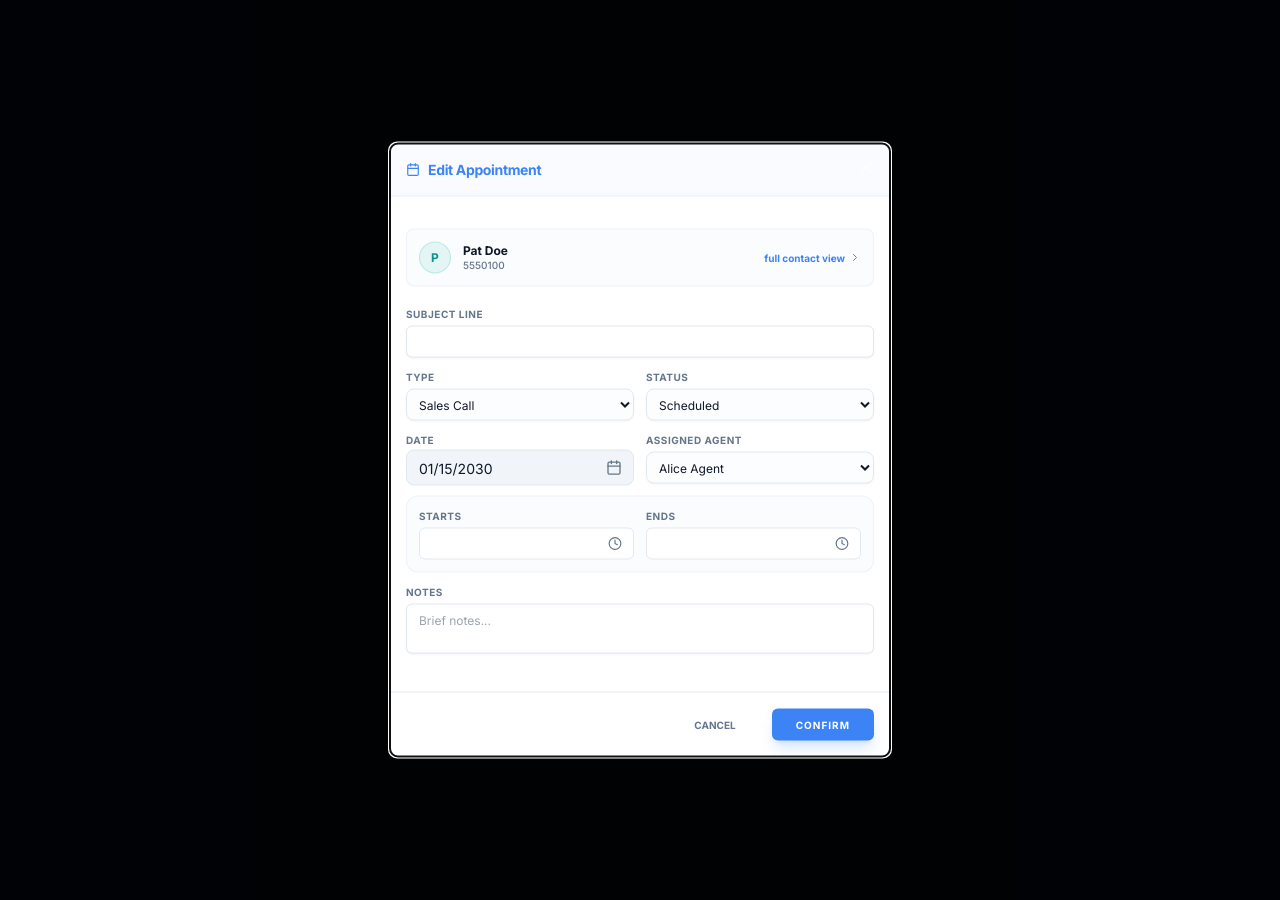
Test: AppointmentModal save outcome (D-16) › disables CONFIRM while the save is in flight and ignores a second click
Step 1. Click the button "CONFIRM" → (823, 724), box [772,708,874,740]
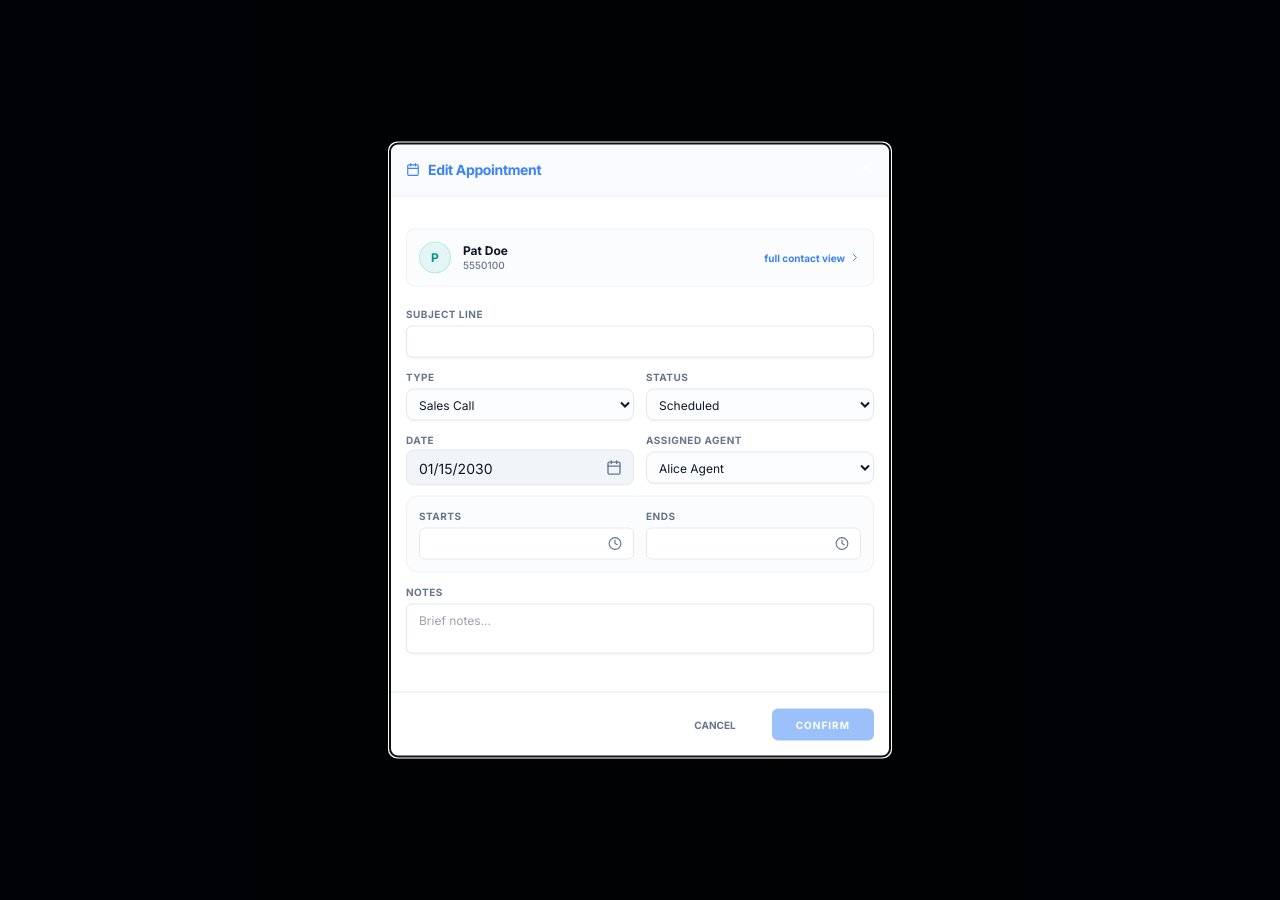
Expected: the button "CONFIRM" is disabled
Step 2. Click the button "CONFIRM" → (823, 724), box [772,708,874,740]
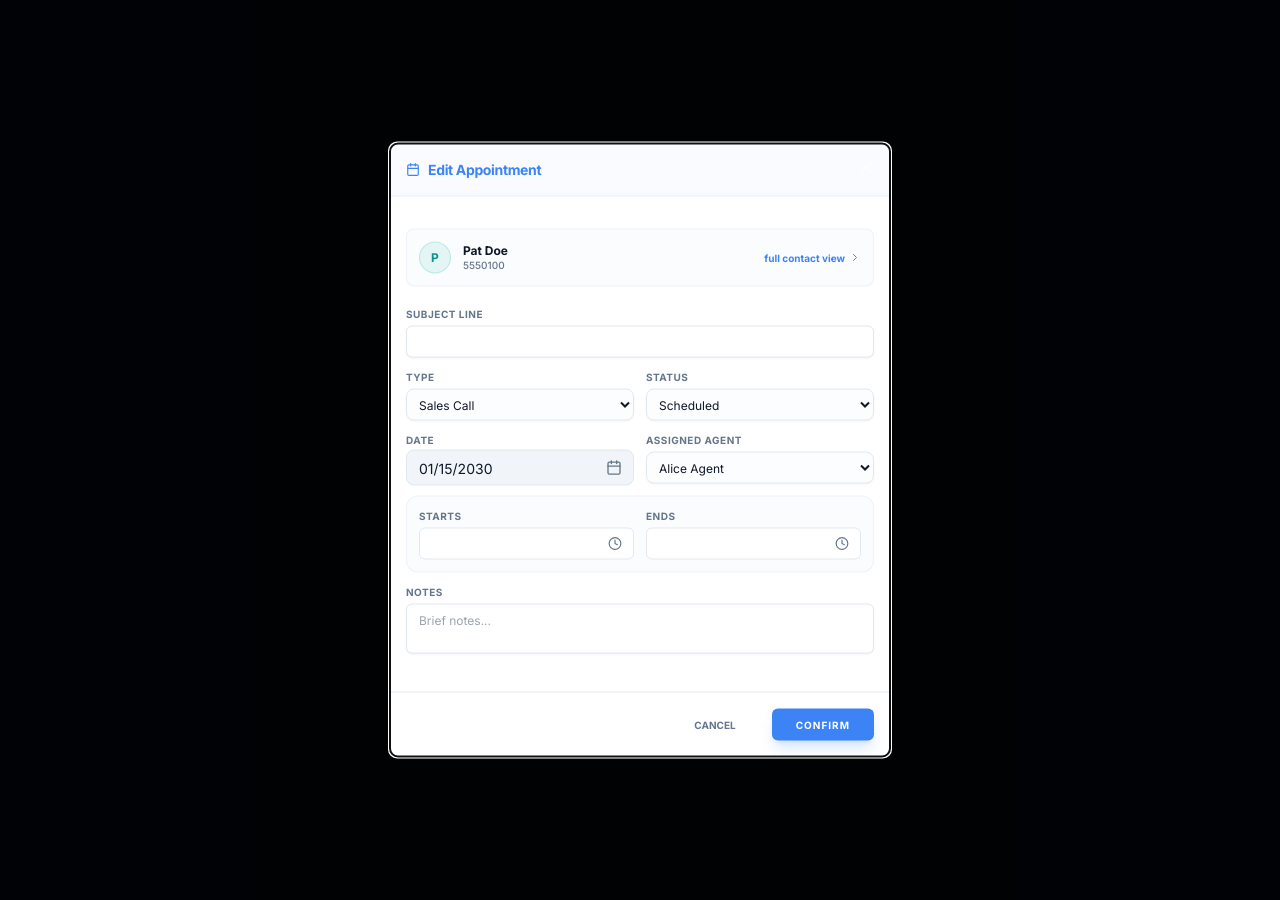
Expected: the button "CONFIRM" is enabled, [772,708,874,740]
